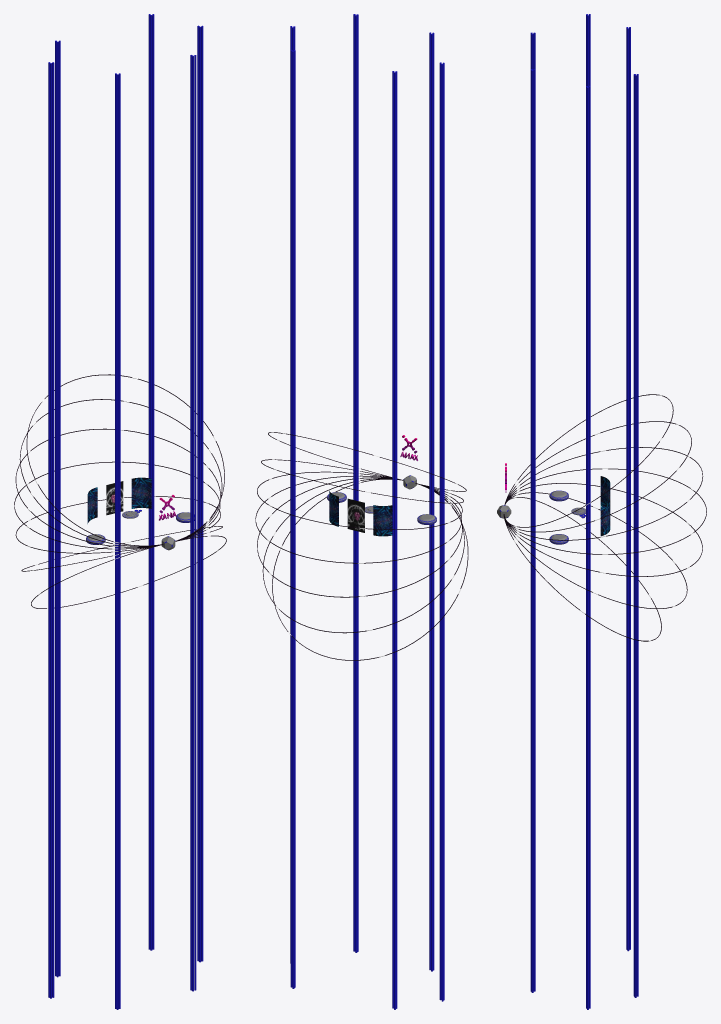
File: DJExport 1.fbx
3 views of the same model, side by side, from view 1: azimuth 30°, elevation 25°; view 2: azimuth 150°, elevation 25°; view 3: azimuth 270°, elevation 25° (orthographic).
Parts seen in each view (by area): view 1: Cylinder003, Tube002, Plane001; view 2: Cylinder003, Tube002, Plane001; view 3: Cylinder003, Tube002, Plane001.
Part boxes in pixels (x1,y1,x2,y2): Cylinder003: [48, 14, 203, 1009]; Tube002: [14, 374, 226, 608]; Plane001: [87, 477, 151, 523]; Cylinder003: [290, 14, 444, 1009]; Tube002: [255, 432, 468, 660]; Plane001: [329, 491, 392, 536]; Cylinder003: [530, 14, 638, 1009]; Tube002: [503, 394, 706, 641]; Plane001: [600, 476, 610, 536].
Bounding box in the file's own units: 200 × 1000 × 206.
